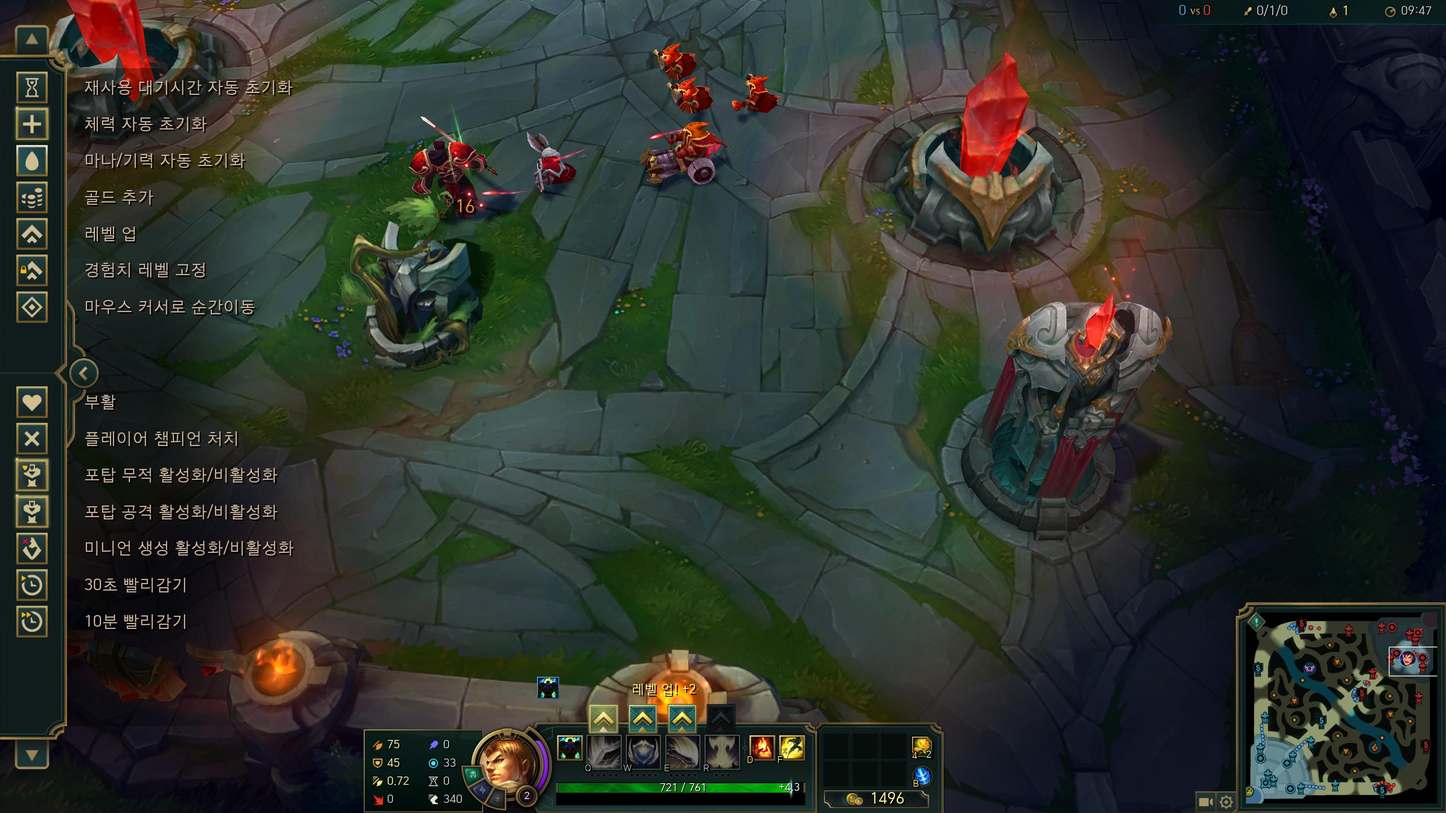enemy-caster-minion: (731, 74, 780, 114), (655, 41, 698, 81), (667, 77, 712, 115)
enemy-inhibitor: (847, 50, 1106, 279)
enemy-melee-minion: (525, 129, 577, 194)
enemy-siege-minion: (641, 120, 727, 191)
enemy-tower: (941, 292, 1173, 562)
